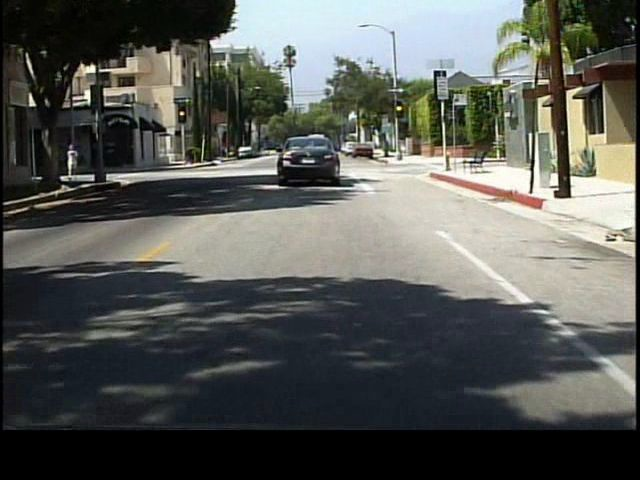person: (66, 144, 83, 188)
